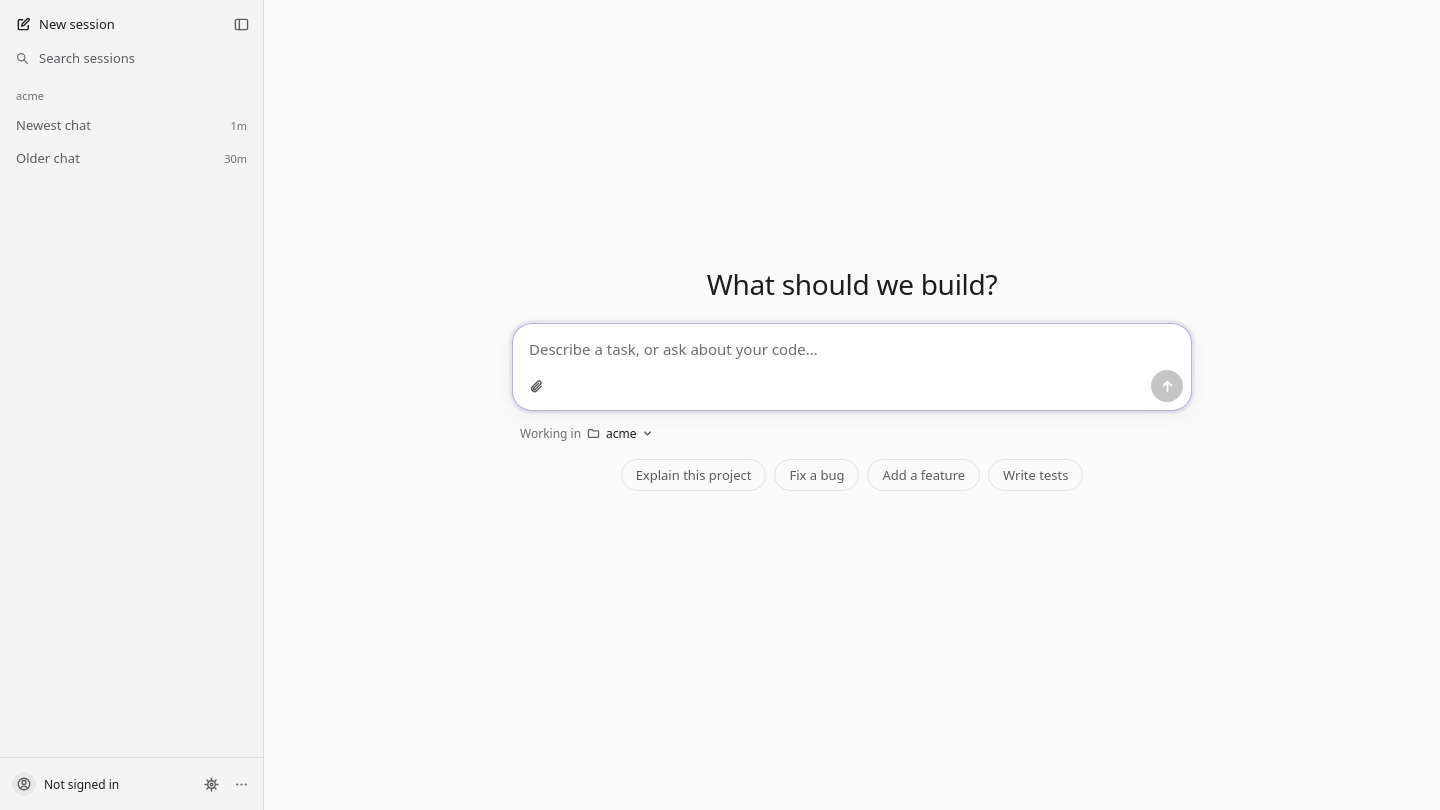
the shell › refills the composer when the same starter is chosen twice
The image size is (1440, 810).
Click the button "Fix a bug": [817, 475] box left=774, top=459, right=860, bottom=491
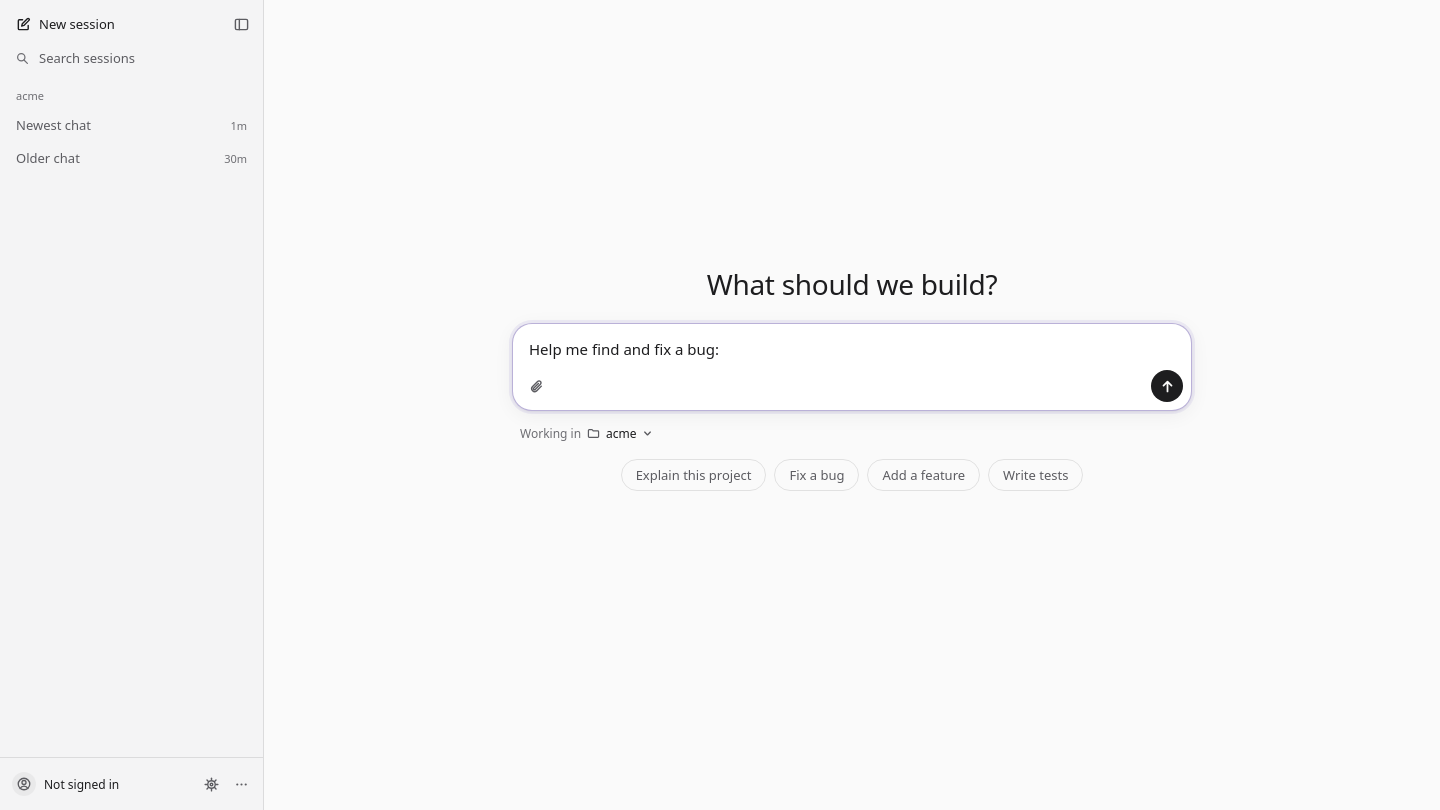
expect the text box with placeholder "Describe a task, or ask about your code…" holds "Help me find and fix a bug: ": met
Clear the text box with placeholder "Describe a task, or ask about your code…": [852, 345] box left=513, top=324, right=1191, bottom=366
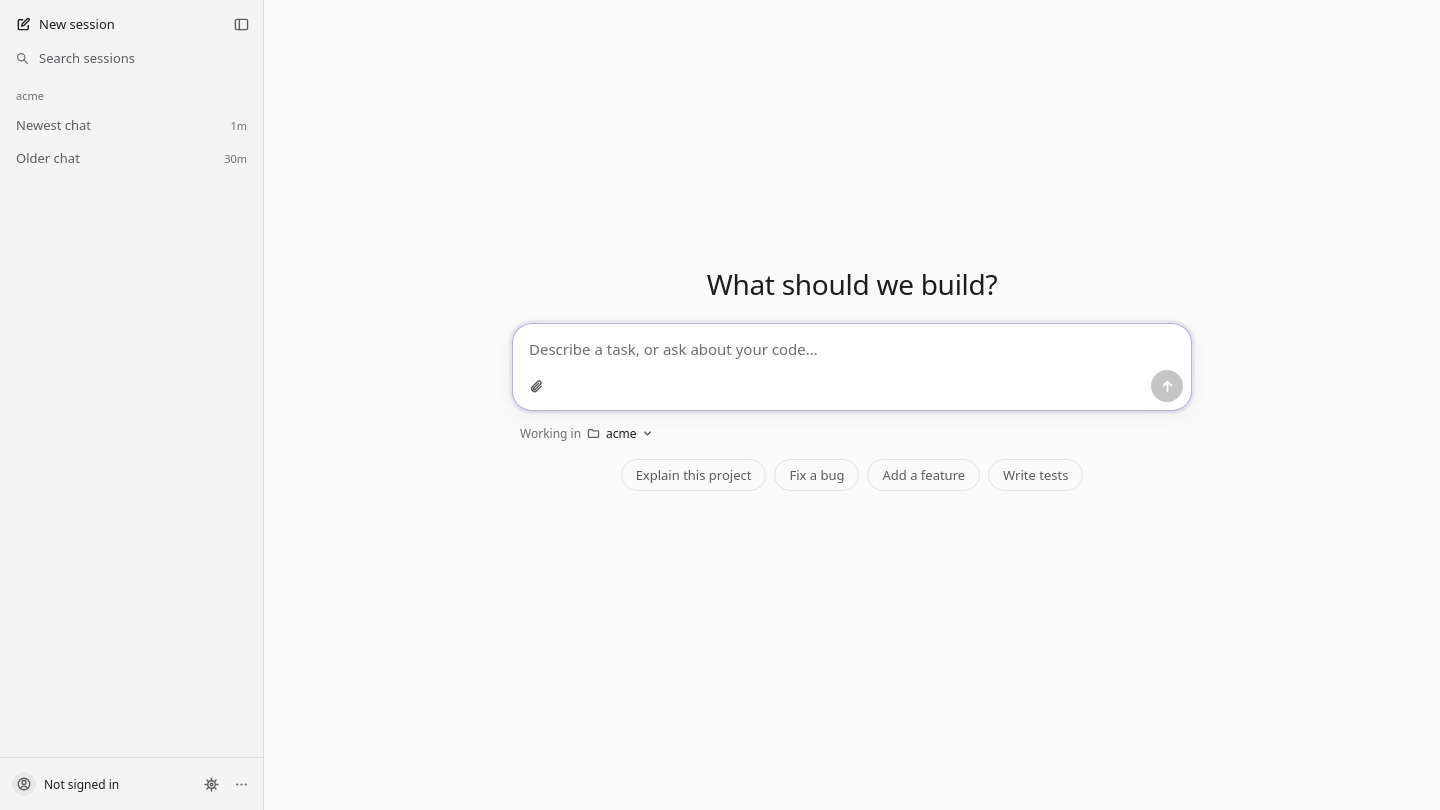
Click the button "Fix a bug": [817, 475] box left=774, top=459, right=860, bottom=491
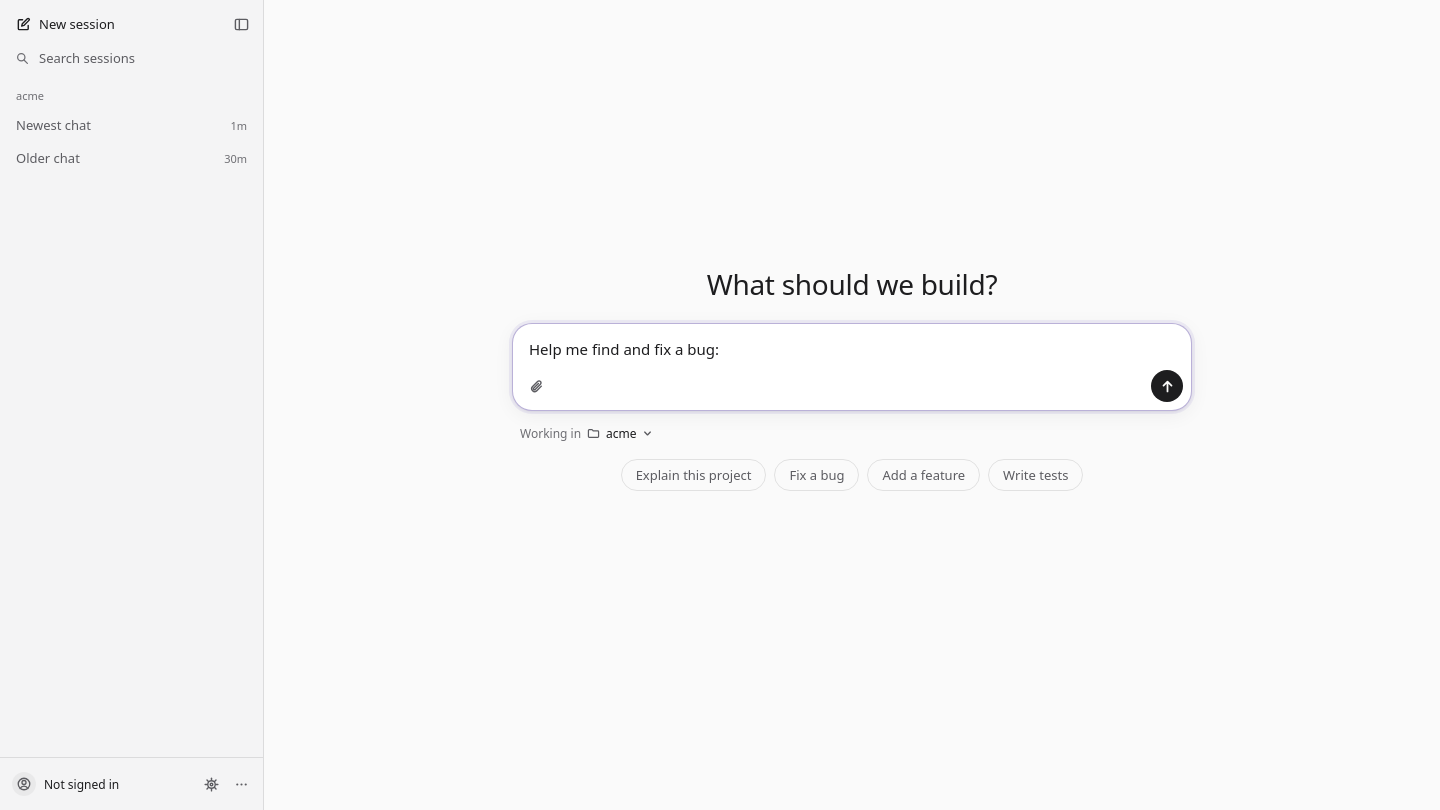
expect the text box with placeholder "Describe a task, or ask about your code…" holds "Help me find and fix a bug: ": met, box left=513, top=324, right=1191, bottom=366
